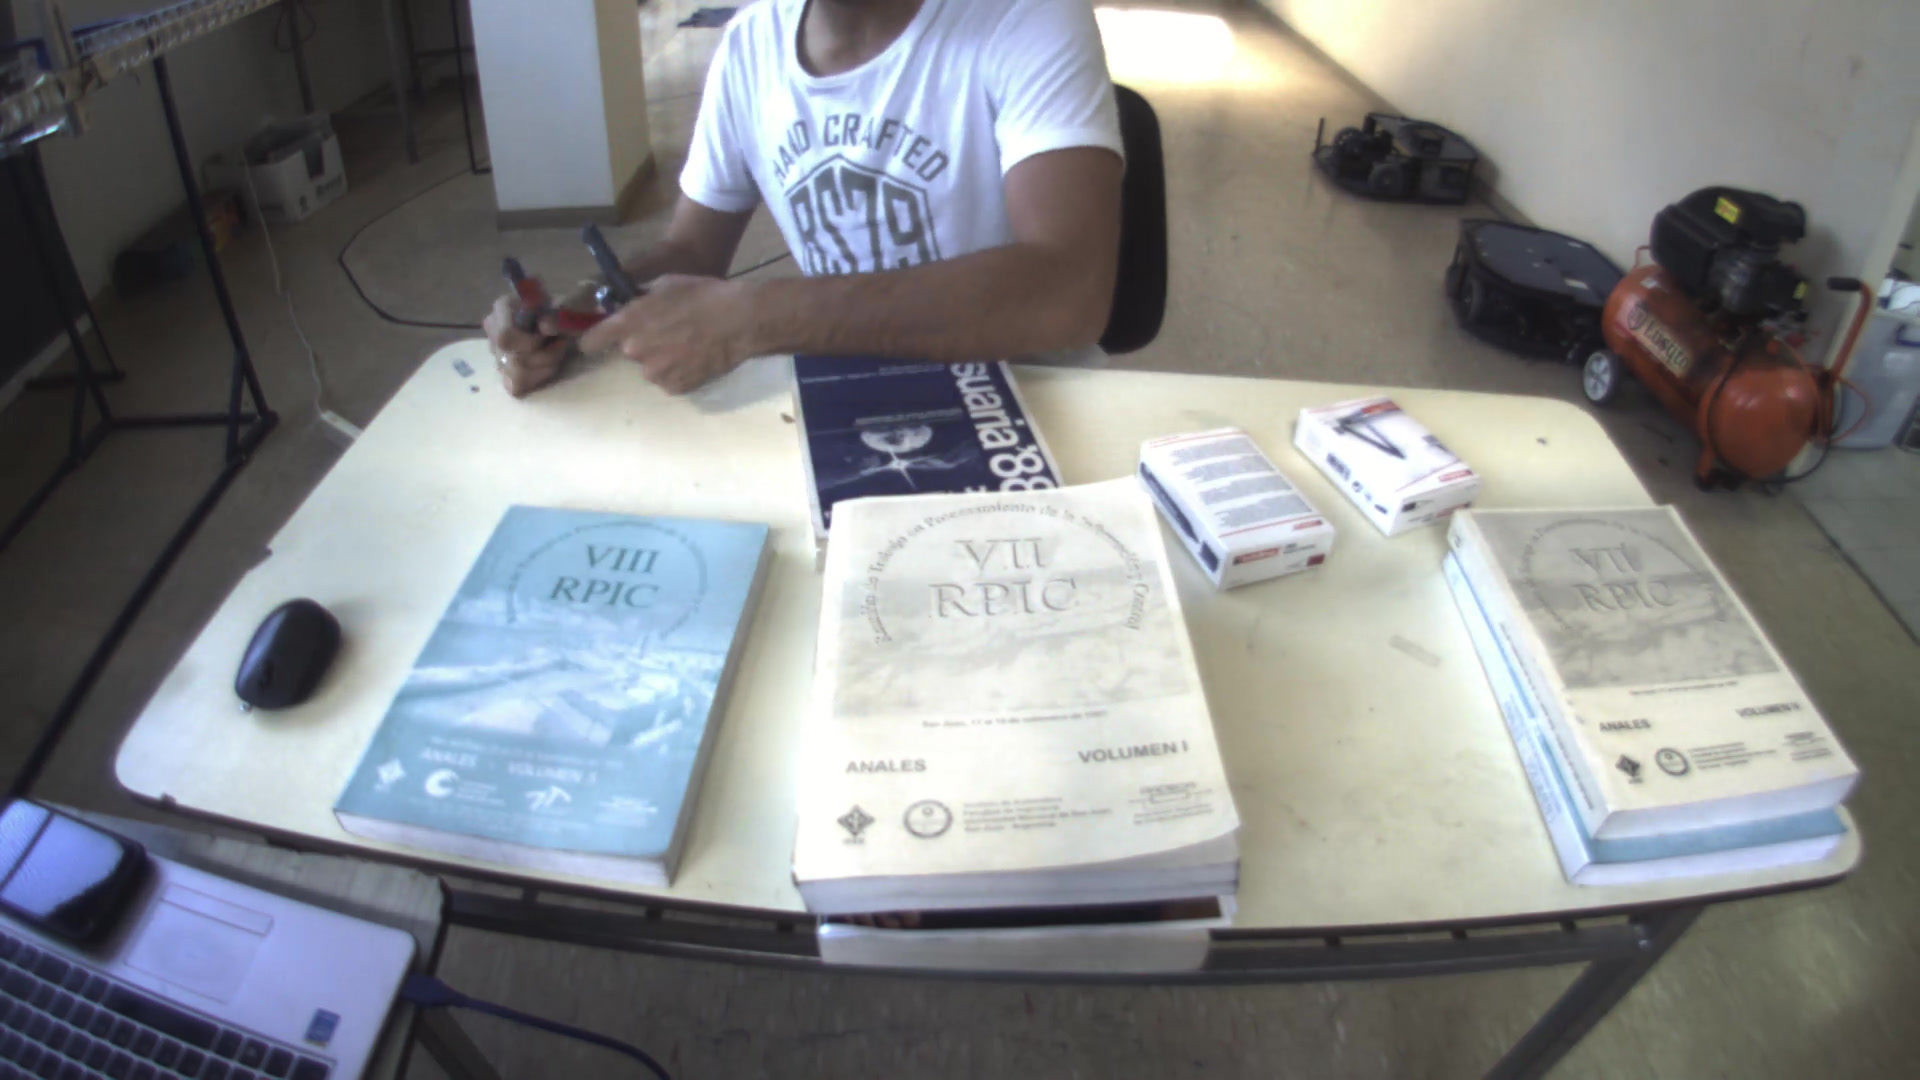hand: (582, 266, 750, 396), (468, 276, 580, 402)
